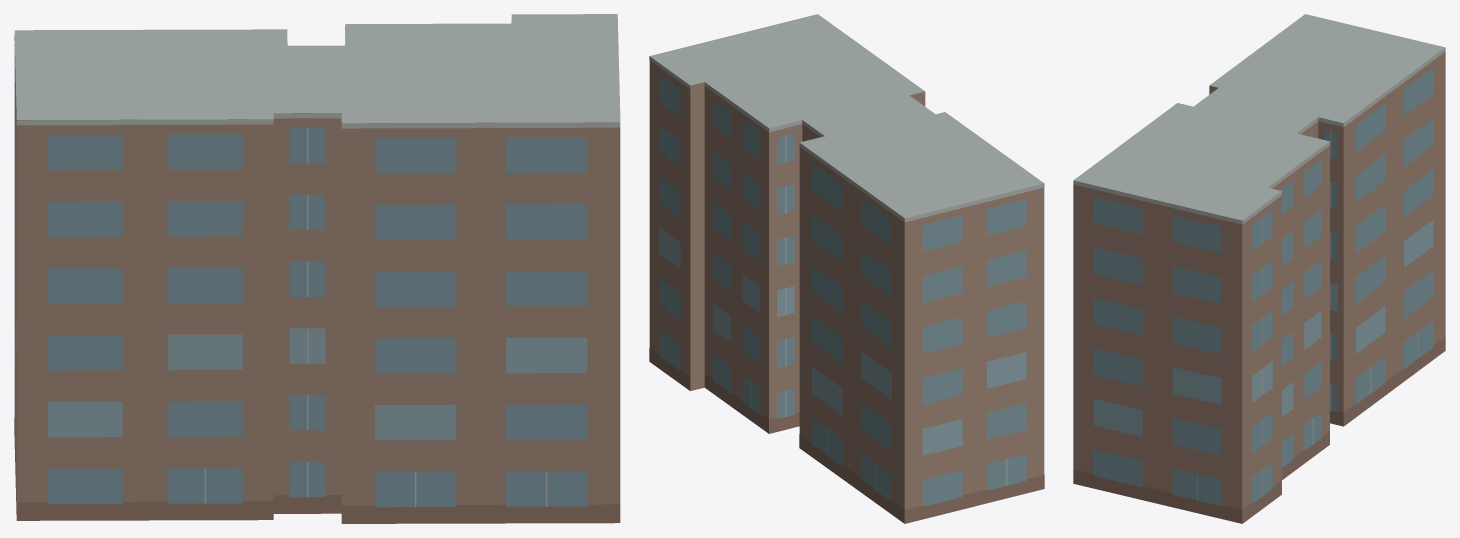
The model's file is survey-upis-32665449.glb.
The picture shows the model from 3 angles, left to right: view 1: azimuth 30°, elevation 25°; view 2: azimuth 150°, elevation 25°; view 3: azimuth 270°, elevation 25°; orthographic projection. The views are drawn at different scales.
Visible parts, largest first — view 1: survey-upis-32665449.tmp; view 2: survey-upis-32665449.tmp; view 3: survey-upis-32665449.tmp.
Part boxes in pixels (box(x1,y1,x2,y2)): survey-upis-32665449.tmp: box(14, 14, 620, 523); survey-upis-32665449.tmp: box(649, 14, 1044, 523); survey-upis-32665449.tmp: box(1073, 14, 1445, 523).
Bounding box in the file's own units: 26.75 × 18.3 × 20.37.
